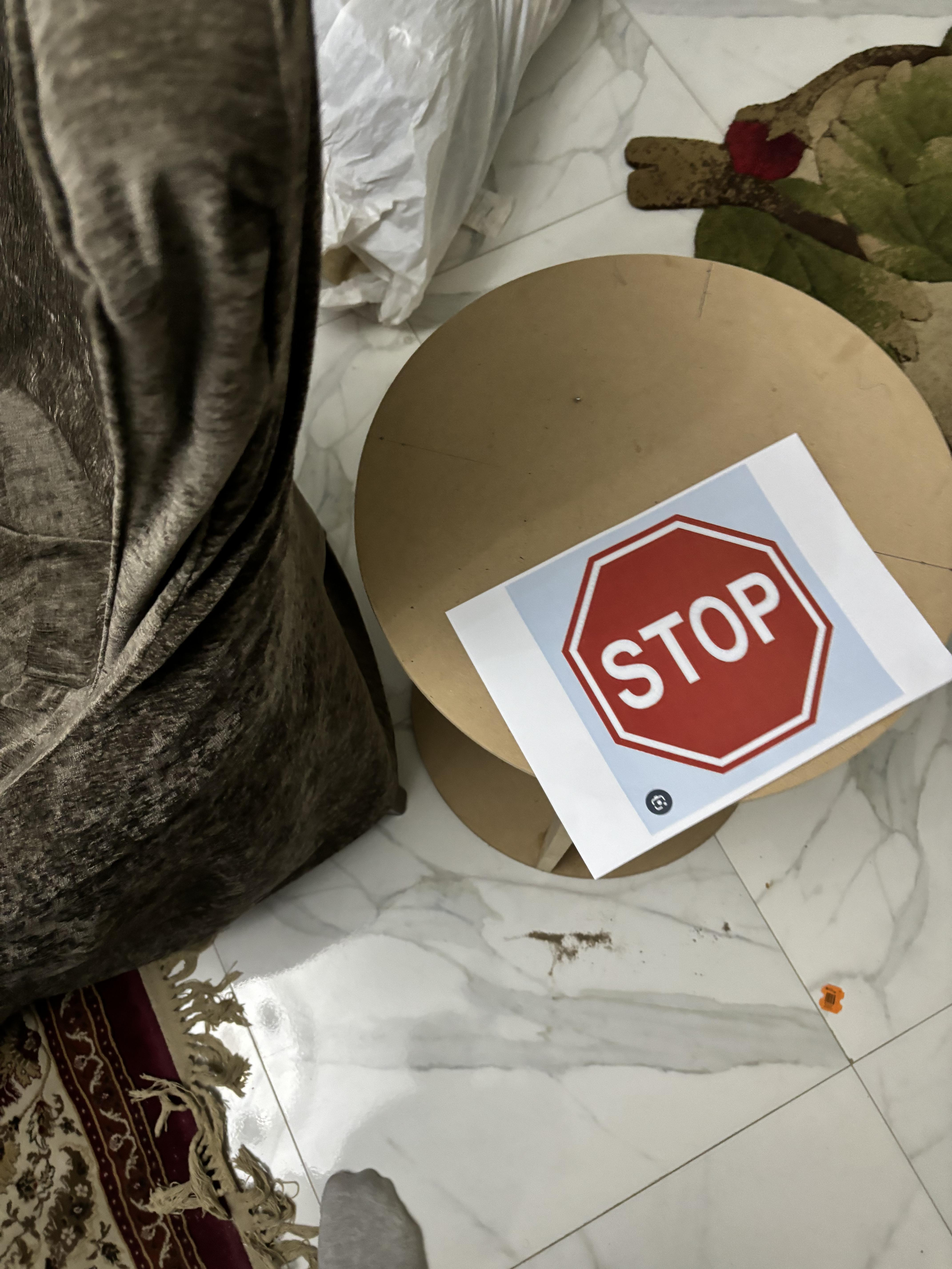Stop: (557, 509, 843, 781)
